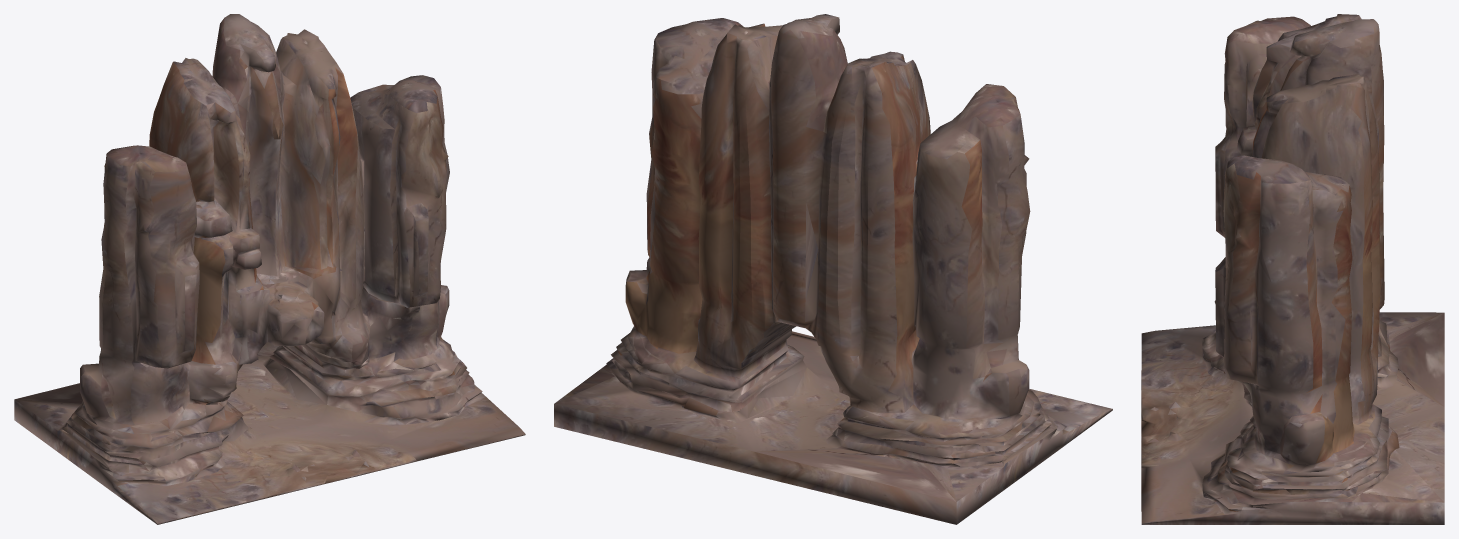
Rendered from roca_periferica.obj.
3 renders of one model, left to right at view 1: azimuth 30°, elevation 25°; view 2: azimuth 150°, elevation 25°; view 3: azimuth 270°, elevation 25°, orthographic. The views are drawn at different scales.
Parts seen in each view (by area): view 1: roca_periferica; view 2: roca_periferica; view 3: roca_periferica.
Part boxes in pixels (left/top/right/bottom): roca_periferica: left=14, top=14, right=525, bottom=524; roca_periferica: left=554, top=14, right=1112, bottom=524; roca_periferica: left=1141, top=14, right=1444, bottom=524.
Bounding box in the file's own units: 0.9997 × 0.9987 × 0.6736.
Materials: 1 (1 with a texture image).
